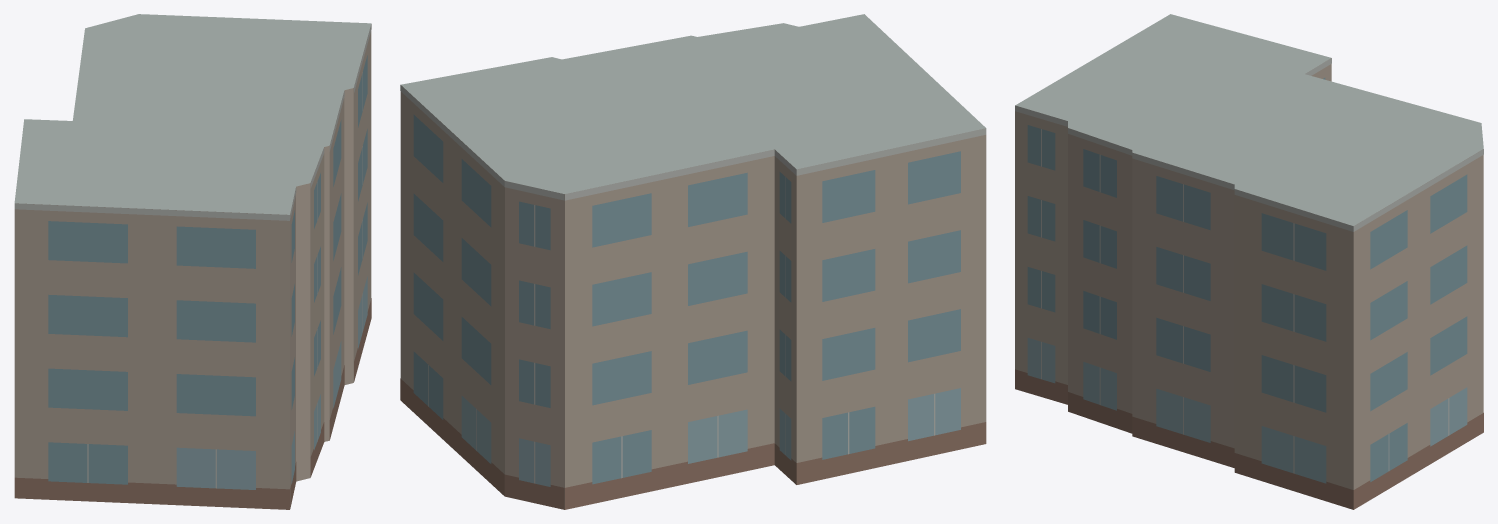
Rendered from survey-upis-33042291.glb.
3 renders of one model, left to right at view 1: azimuth 30°, elevation 25°; view 2: azimuth 150°, elevation 25°; view 3: azimuth 270°, elevation 25°, orthographic. The views are drawn at different scales.
Parts seen in each view (by area): view 1: survey-upis-33042291.tmp; view 2: survey-upis-33042291.tmp; view 3: survey-upis-33042291.tmp.
Part boxes in pixels (bbox=[...]): survey-upis-33042291.tmp: bbox=[14, 14, 371, 509]; survey-upis-33042291.tmp: bbox=[400, 14, 986, 509]; survey-upis-33042291.tmp: bbox=[1015, 14, 1483, 509].
Bounding box in the file's own units: 19.1 × 11.9 × 17.83.
